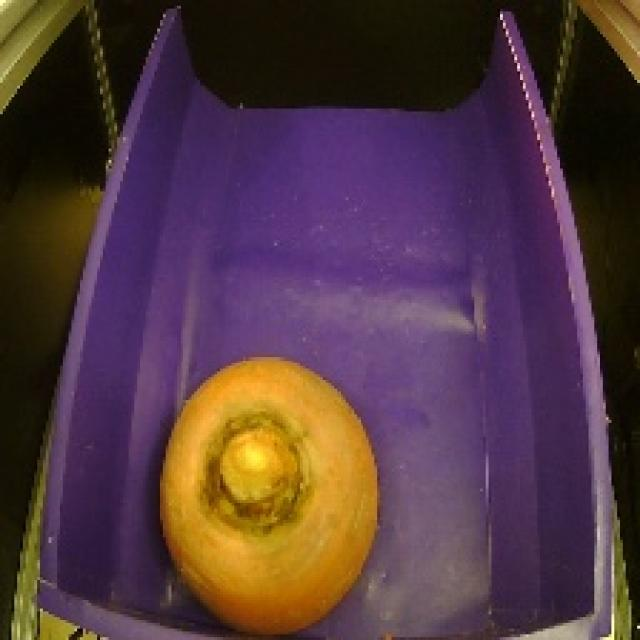carrots: (148, 343, 392, 640)
